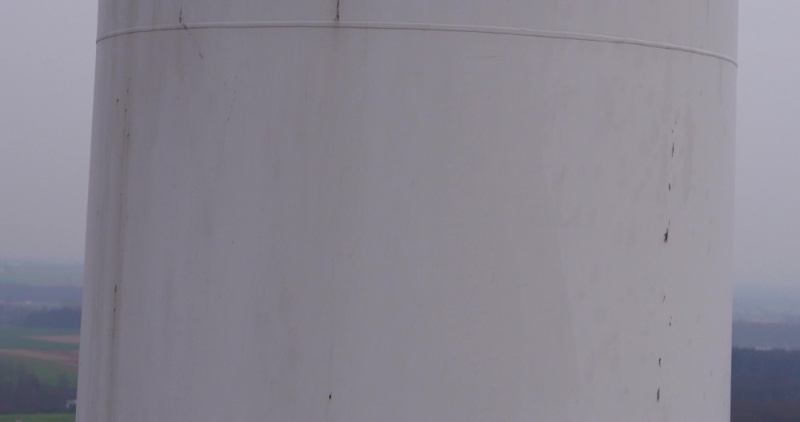weldseam: (89, 20, 740, 74)
